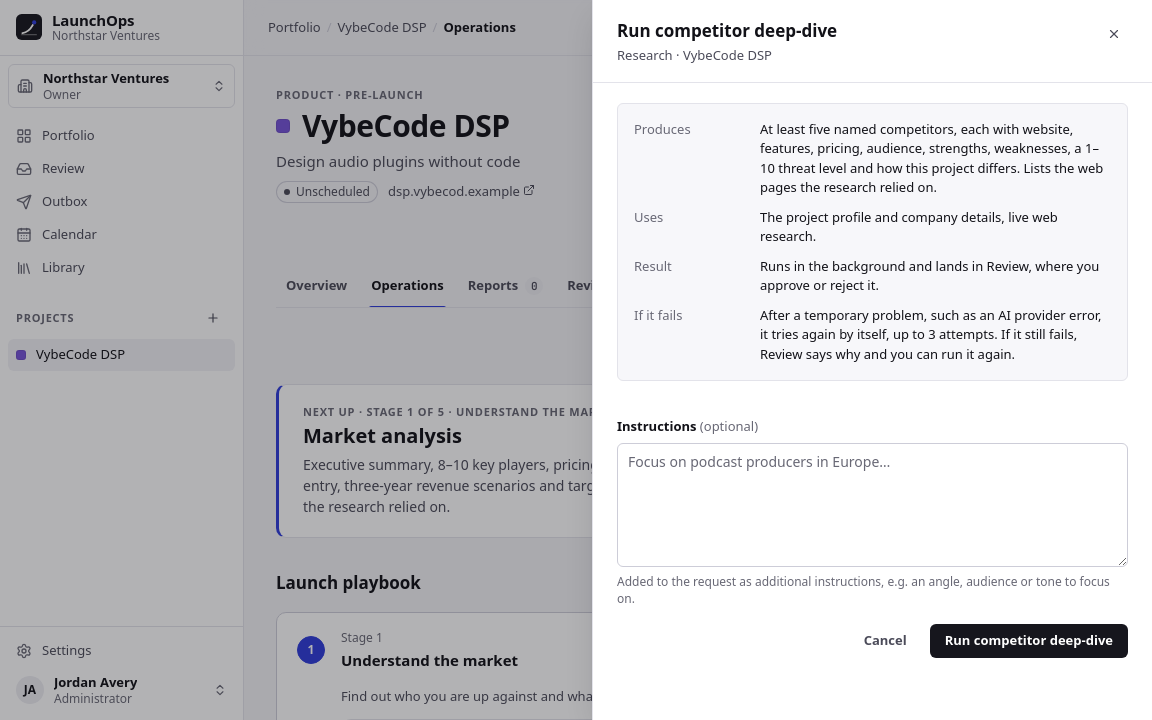
Scenario: Running a workflow › keeps the run sheet open with the server's reason when a workflow can't start
Click the button "Run competitor deep-dive" at [1029, 641], box [930,624,1128,658]
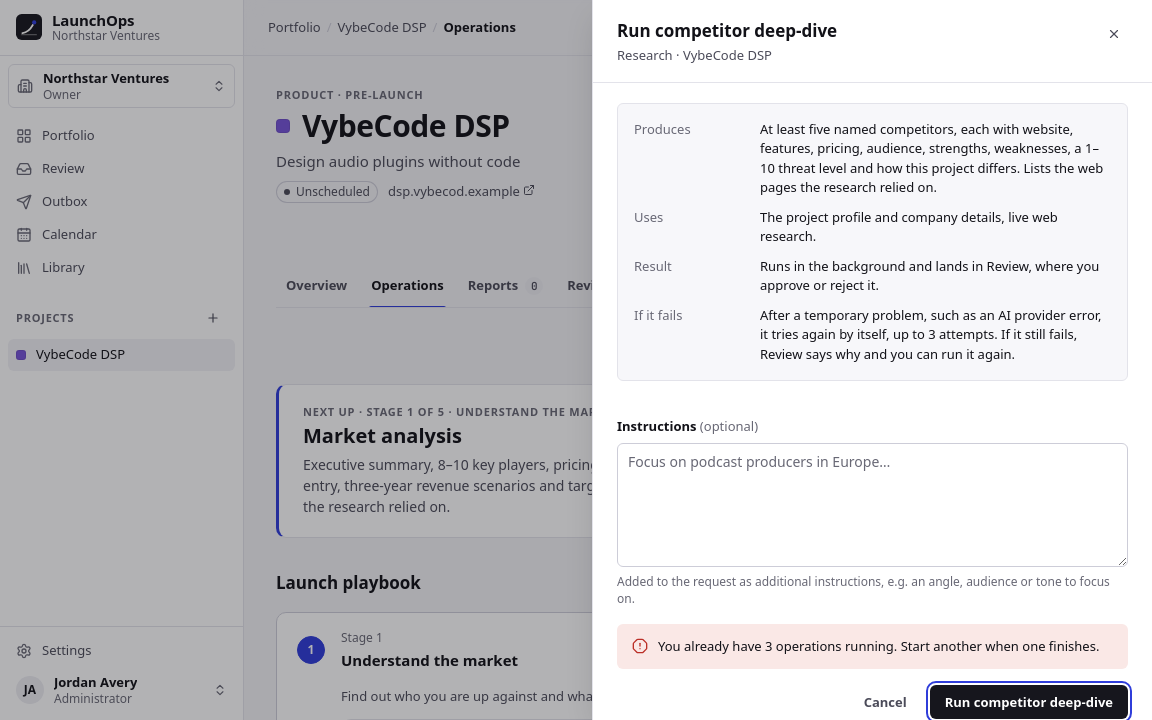
Expected: the message reads "You already have 3 operations running. Start another when one finishes.", [658,637,1099,655]
